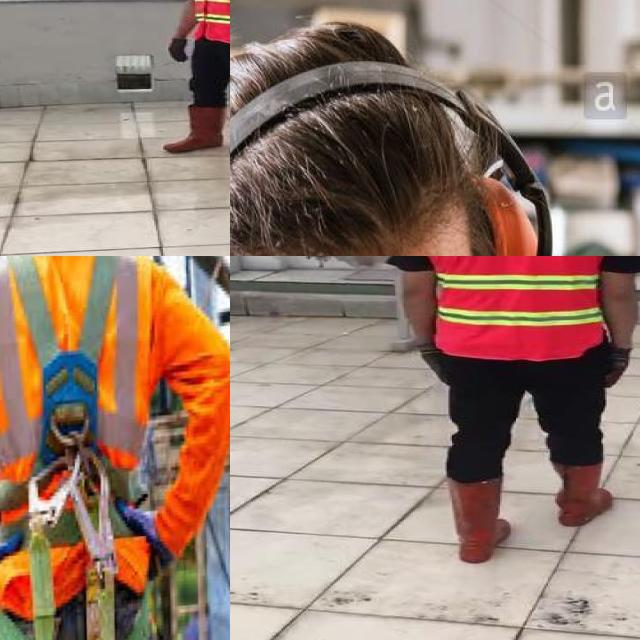Ear-protection: (230, 42, 564, 256)
Harness: (0, 256, 121, 640)
boots: (447, 476, 509, 565), (548, 457, 612, 527), (165, 106, 229, 152)
hand_glove: (415, 338, 453, 384), (595, 344, 634, 388), (168, 37, 190, 63)
person: (389, 256, 640, 571), (152, 0, 230, 161)
vest: (421, 256, 606, 359), (187, 0, 230, 42)
